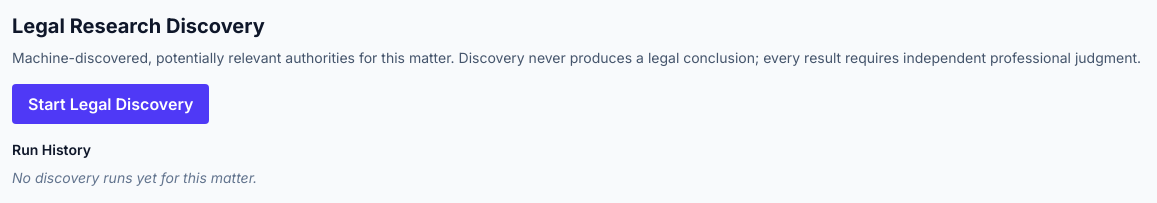
it: Stage 9D-3 LegalDiscoveryTab › prevents a duplicate start while a request is already in flight
The image size is (1157, 203).
Later steps or results of the test are not shown.
Expected: the text "No discovery runs yet for this matter." is shown, [12,169,257,186]
Click the button "Start Legal Discovery": click(111, 104) [12,84,209,124]
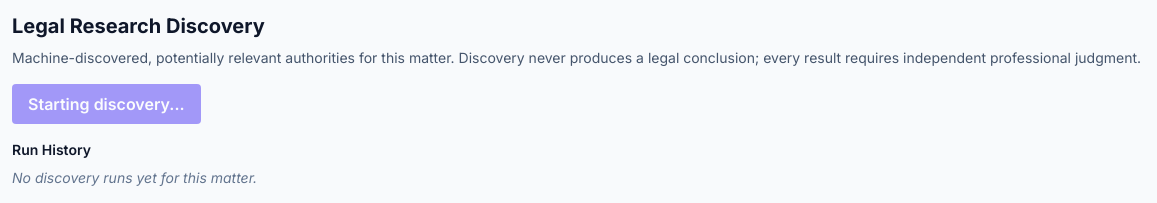
Expected: the button "Starting discovery..." is shown, [12,84,201,124]
